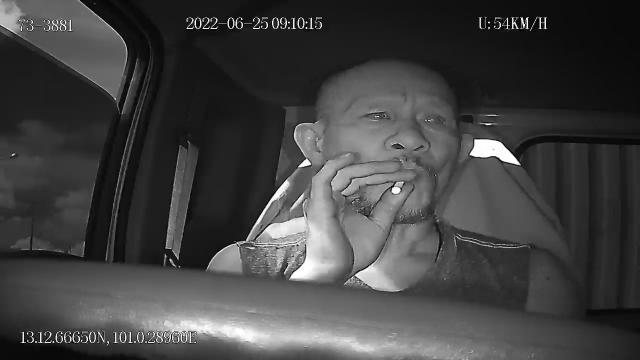SafeDriving: (410, 103, 453, 134), (355, 100, 398, 126)
Smoking: (392, 178, 406, 194)
